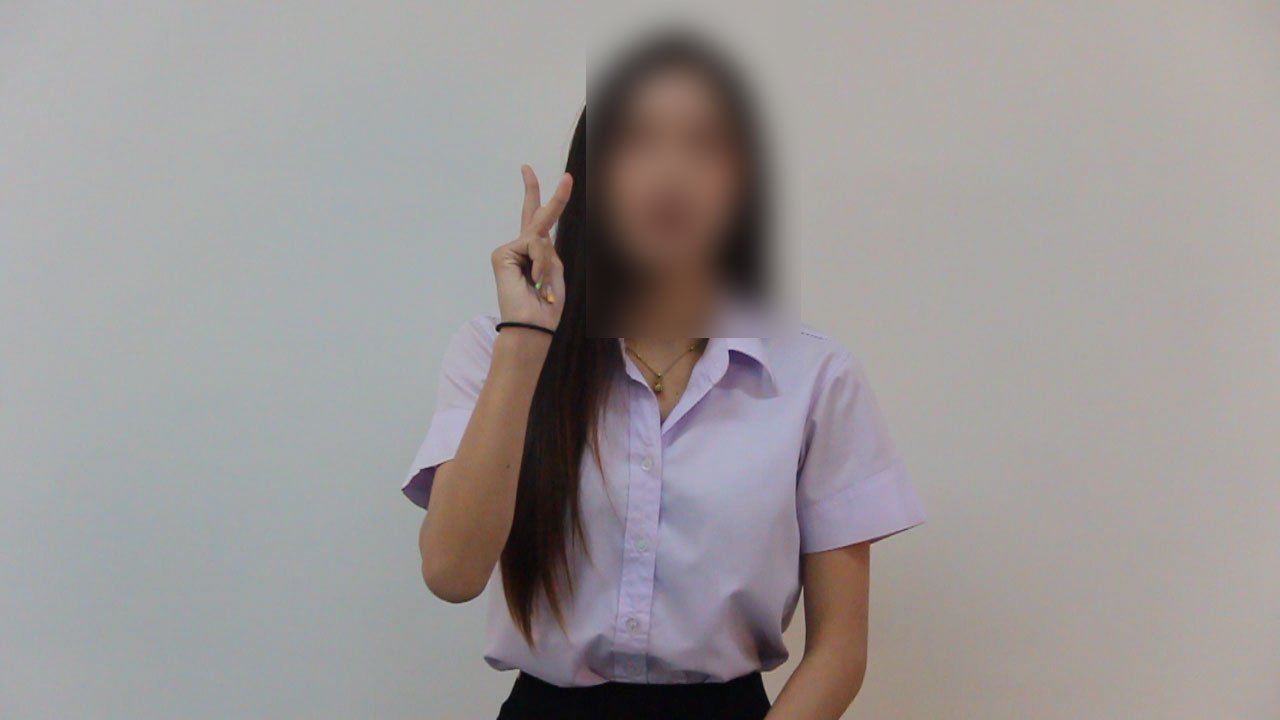ko: (466, 152, 592, 348)
